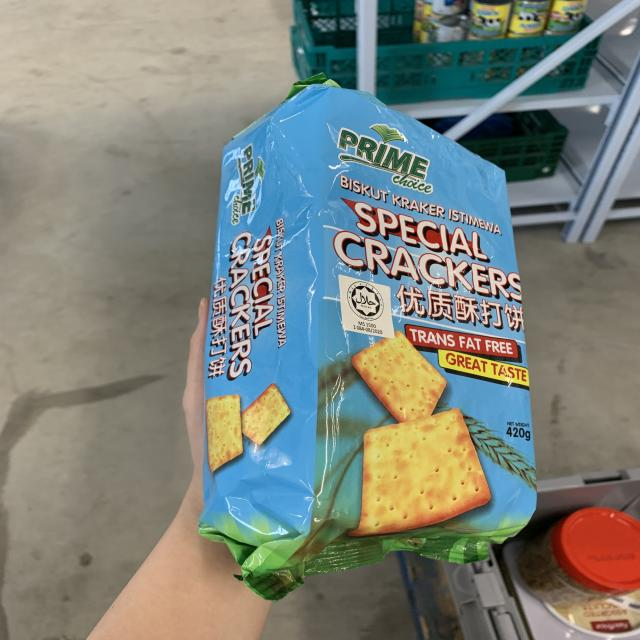object_name: (216, 93, 535, 561)
